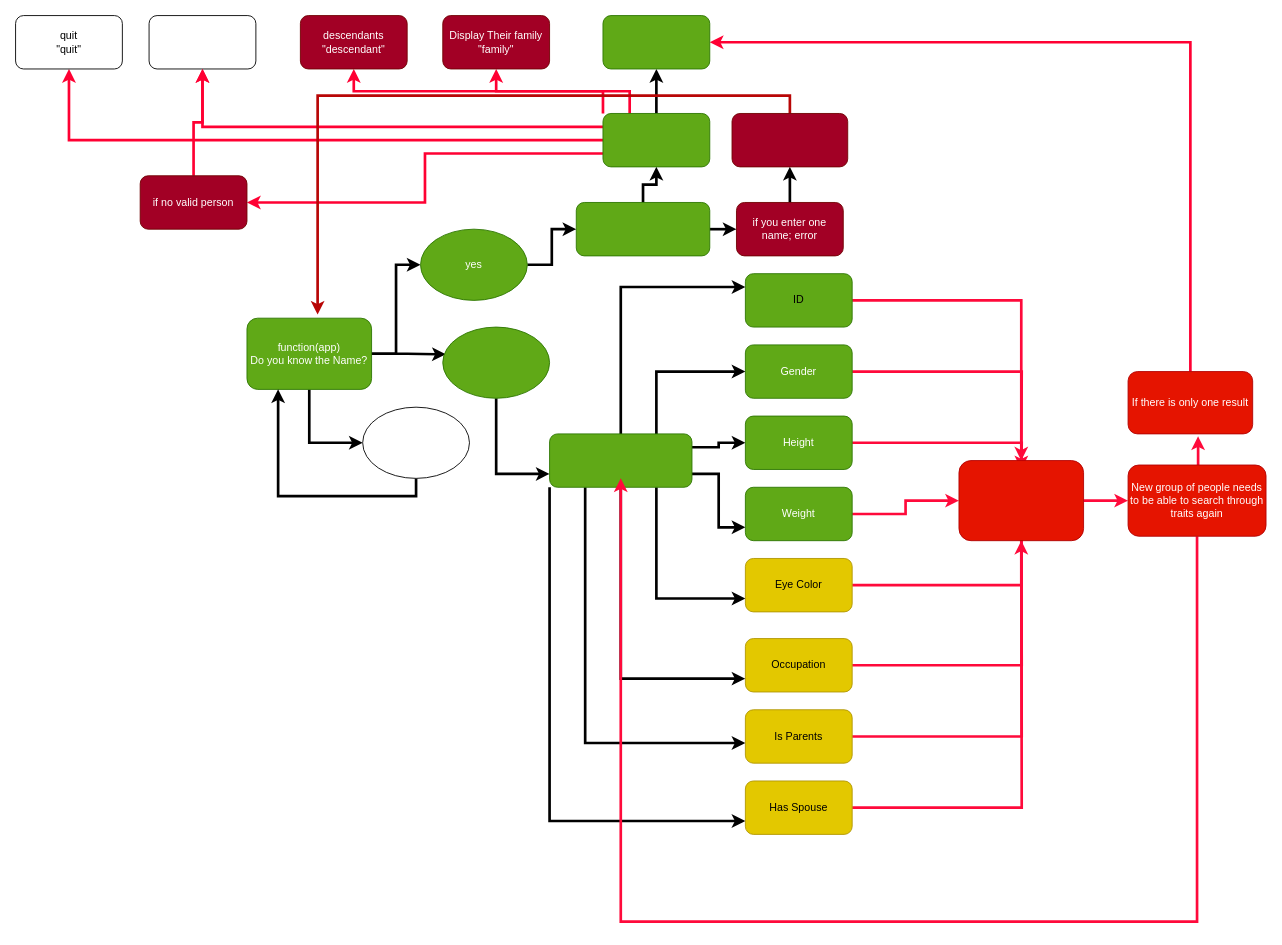
Image size: 1282x945. Some labels were removed from this diagram. Each missing label, with the centre of its shape:
Default: break: point 415,442
Displays Info of a single person "info": point 656,42
find people by traits findPeopleByTraits(people): point 620,460
If you enter first name and last name searchByName(person): point 642,229
Makes New group of people: displayPeople: point 1021,500
need to make it start over for incorrect name: point 789,140
no: point 496,362
restart: "restart": point 202,42
returns a person mainMenu(person, people): point 656,140
